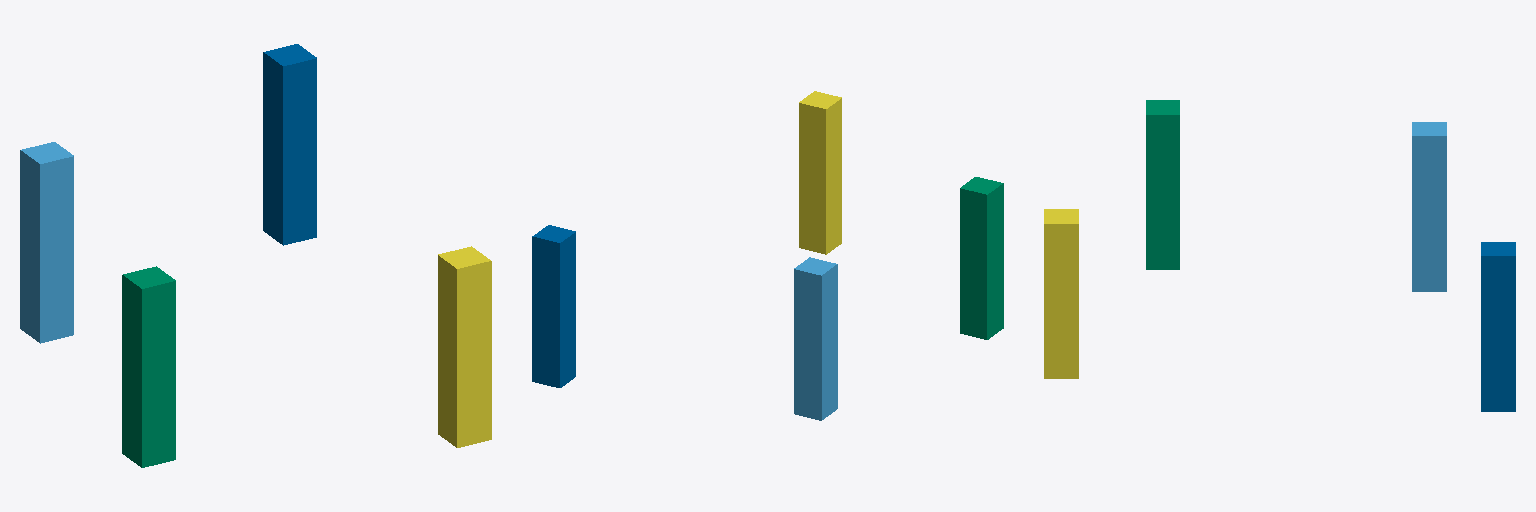
robot.urdf — obstacles:
<?xml version="1.0" ?>
<!-- =================================================================================== -->
<!-- |    This document was autogenerated by xacro from obstacles.urdf.xacro           | -->
<!-- |    EDITING THIS FILE BY HAND IS NOT RECOMMENDED                                 | -->
<!-- =================================================================================== -->
<robot name="obstacles">
  <link name="world"/>
  <joint name="obstacle1_joint" type="fixed">
    <parent link="world"/>
    <child link="obstacle1_link"/>
    <origin rpy="0.0 0.0 0.0" xyz="-1.4 2.1 0.001"/>
  </joint>
  <link name="obstacle1_link">
    <inertial>
      <mass value="10"/>
      <origin xyz="0 0 0"/>
      <inertia ixx="1.0" ixy="0.0" ixz="0.0" iyy="0.1" iyz="0.0" izz="0.1"/>
    </inertial>
    <visual>
      <origin rpy="0 0 0" xyz="0 0 1.0"/>
      <geometry>
        <box size="0.4 0.4 2.0"/>
      </geometry>
    </visual>
    <collision>
      <origin rpy="0 0 0" xyz="0 0 1.0"/>
      <geometry>
        <box size="0.4 0.4 2.0"/>
      </geometry>
    </collision>
  </link>
  <gazebo reference="obstacle1_link">
    <material>Gazebo/Red</material>
    <gravity>0</gravity>
    <sensor name="obstacle1_sensor" type="contact">
      <always_on>true</always_on>
      <update_rate>30</update_rate>
      <contact>
        <collision>obstacle1_link_collision</collision>
        <!-- This should be the same name as the collision layer above-->
      </contact>
      <plugin filename="libgazebo_ros_bumper.so" name="bumper_plugin">
        <bumperTopicName>/gazebo/obstacle1_link_collisions</bumperTopicName>
        <frameName>odom</frameName>
      </plugin>
    </sensor>
  </gazebo>
  <joint name="obstacle2_joint" type="fixed">
    <parent link="world"/>
    <child link="obstacle2_link"/>
    <origin rpy="0.0 0.0 0.0" xyz="-2.0 -1.0 0.001"/>
  </joint>
  <link name="obstacle2_link">
    <inertial>
      <mass value="10"/>
      <origin xyz="0 0 0"/>
      <inertia ixx="1.0" ixy="0.0" ixz="0.0" iyy="0.1" iyz="0.0" izz="0.1"/>
    </inertial>
    <visual>
      <origin rpy="0 0 0" xyz="0 0 1.0"/>
      <geometry>
        <box size="0.4 0.4 2.0"/>
      </geometry>
    </visual>
    <collision>
      <origin rpy="0 0 0" xyz="0 0 1.0"/>
      <geometry>
        <box size="0.4 0.4 2.0"/>
      </geometry>
    </collision>
  </link>
  <gazebo reference="obstacle2_link">
    <material>Gazebo/Red</material>
    <gravity>0</gravity>
    <sensor name="obstacle2_sensor" type="contact">
      <always_on>true</always_on>
      <update_rate>30</update_rate>
      <contact>
        <collision>obstacle2_link_collision</collision>
        <!-- This should be the same name as the collision layer above-->
      </contact>
      <plugin filename="libgazebo_ros_bumper.so" name="bumper_plugin">
        <bumperTopicName>/gazebo/obstacle2_link_collisions</bumperTopicName>
        <frameName>odom</frameName>
      </plugin>
    </sensor>
  </gazebo>
  <joint name="obstacle3_joint" type="fixed">
    <parent link="world"/>
    <child link="obstacle3_link"/>
    <origin rpy="0.0 0.0 0.0" xyz="1.0 -2.18 0.001"/>
  </joint>
  <link name="obstacle3_link">
    <inertial>
      <mass value="10"/>
      <origin xyz="0 0 0"/>
      <inertia ixx="1.0" ixy="0.0" ixz="0.0" iyy="0.1" iyz="0.0" izz="0.1"/>
    </inertial>
    <visual>
      <origin rpy="0 0 0" xyz="0 0 1.0"/>
      <geometry>
        <box size="0.4 0.4 2.0"/>
      </geometry>
    </visual>
    <collision>
      <origin rpy="0 0 0" xyz="0 0 1.0"/>
      <geometry>
        <box size="0.4 0.4 2.0"/>
      </geometry>
    </collision>
  </link>
  <gazebo reference="obstacle3_link">
    <material>Gazebo/Red</material>
    <gravity>0</gravity>
    <sensor name="obstacle3_sensor" type="contact">
      <always_on>true</always_on>
      <update_rate>30</update_rate>
      <contact>
        <collision>obstacle3_link_collision</collision>
        <!-- This should be the same name as the collision layer above-->
      </contact>
      <plugin filename="libgazebo_ros_bumper.so" name="bumper_plugin">
        <bumperTopicName>/gazebo/obstacle3_link_collisions</bumperTopicName>
        <frameName>odom</frameName>
      </plugin>
    </sensor>
  </gazebo>
  <joint name="obstacle4_joint" type="fixed">
    <parent link="world"/>
    <child link="obstacle4_link"/>
    <origin rpy="0.0 0.0 0.0" xyz="1.9 2.9 0.001"/>
  </joint>
  <link name="obstacle4_link">
    <inertial>
      <mass value="10"/>
      <origin xyz="0 0 0"/>
      <inertia ixx="1.0" ixy="0.0" ixz="0.0" iyy="0.1" iyz="0.0" izz="0.1"/>
    </inertial>
    <visual>
      <origin rpy="0 0 0" xyz="0 0 1.0"/>
      <geometry>
        <box size="0.4 0.4 2.0"/>
      </geometry>
    </visual>
    <collision>
      <origin rpy="0 0 0" xyz="0 0 1.0"/>
      <geometry>
        <box size="0.4 0.4 2.0"/>
      </geometry>
    </collision>
  </link>
  <gazebo reference="obstacle4_link">
    <material>Gazebo/Red</material>
    <gravity>0</gravity>
    <sensor name="obstacle4_sensor" type="contact">
      <always_on>true</always_on>
      <update_rate>30</update_rate>
      <contact>
        <collision>obstacle4_link_collision</collision>
        <!-- This should be the same name as the collision layer above-->
      </contact>
      <plugin filename="libgazebo_ros_bumper.so" name="bumper_plugin">
        <bumperTopicName>/gazebo/obstacle4_link_collisions</bumperTopicName>
        <frameName>odom</frameName>
      </plugin>
    </sensor>
  </gazebo>
</robot>

--- What the picture shows (computed from the rendered views, not written in the file) ---
The picture shows the robot from 3 angles, left to right: view 1: azimuth 30°, elevation 25°; view 2: azimuth 150°, elevation 25°; view 3: azimuth 270°, elevation 25°; orthographic projection.
Robot: obstacles — 5 links, 4 joints (4 fixed); root link world; default pose: all joints at 0.
Links seen in each view (by area): view 1: obstacle2_link, obstacle4_link, obstacle3_link, obstacle1_link; view 2: obstacle4_link, obstacle2_link, obstacle1_link, obstacle3_link; view 3: obstacle1_link, obstacle3_link, obstacle4_link, obstacle2_link.
Link boxes in pixels (x1=…): obstacle2_link: x1=122, y1=266, x2=175, y2=467; obstacle4_link: x1=263, y1=44, x2=316, y2=245; obstacle3_link: x1=438, y1=246, x2=491, y2=447; obstacle1_link: x1=20, y1=142, x2=73, y2=343; obstacle4_link: x1=532, y1=225, x2=575, y2=387; obstacle2_link: x1=960, y1=177, x2=1003, y2=339; obstacle1_link: x1=794, y1=257, x2=837, y2=420; obstacle3_link: x1=799, y1=91, x2=841, y2=254; obstacle1_link: x1=1412, y1=122, x2=1446, y2=291; obstacle3_link: x1=1044, y1=209, x2=1078, y2=378; obstacle4_link: x1=1481, y1=242, x2=1515, y2=411; obstacle2_link: x1=1146, y1=100, x2=1179, y2=269.
Size in the robot's own frame: 4.3 by 5.48 by 2 metres.
Geometry: primitives only (box / cylinder / sphere), no mesh files.